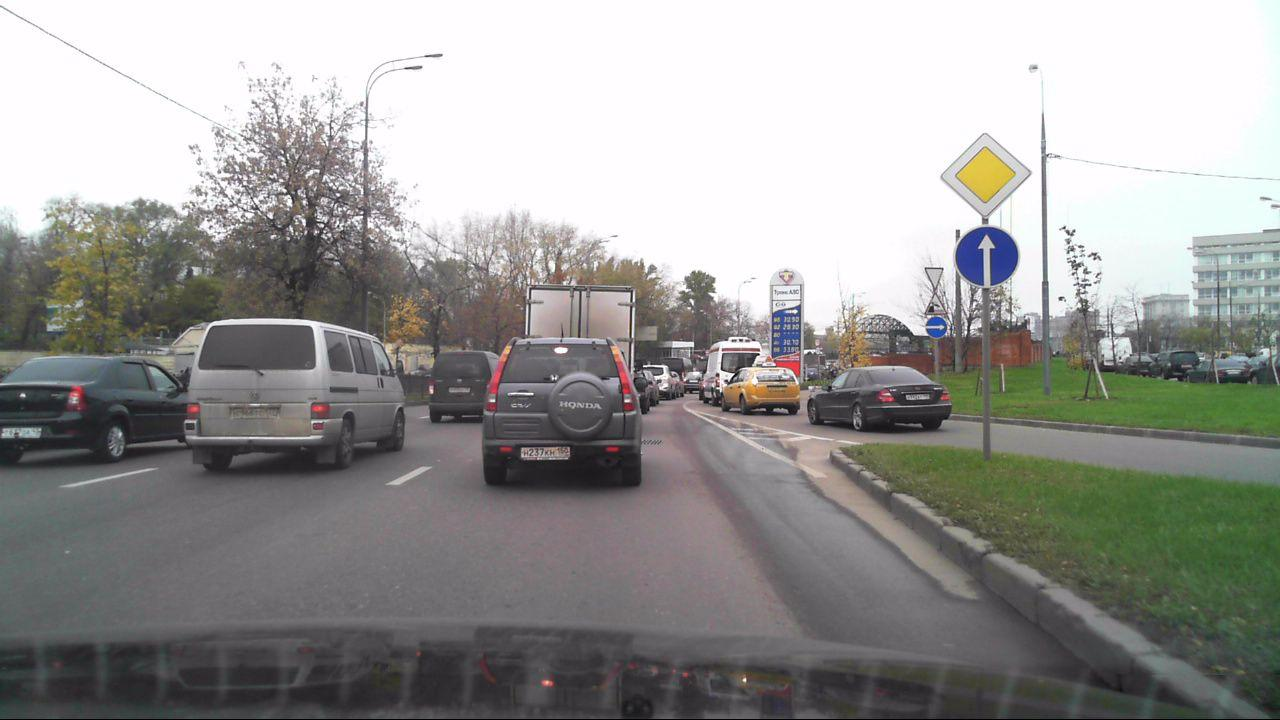1_10: (924, 292, 945, 315)
2_1: (938, 128, 1032, 218)
2_4: (924, 267, 943, 289)
4_1_1: (954, 223, 1019, 287)
4_2_1: (924, 316, 949, 338)
